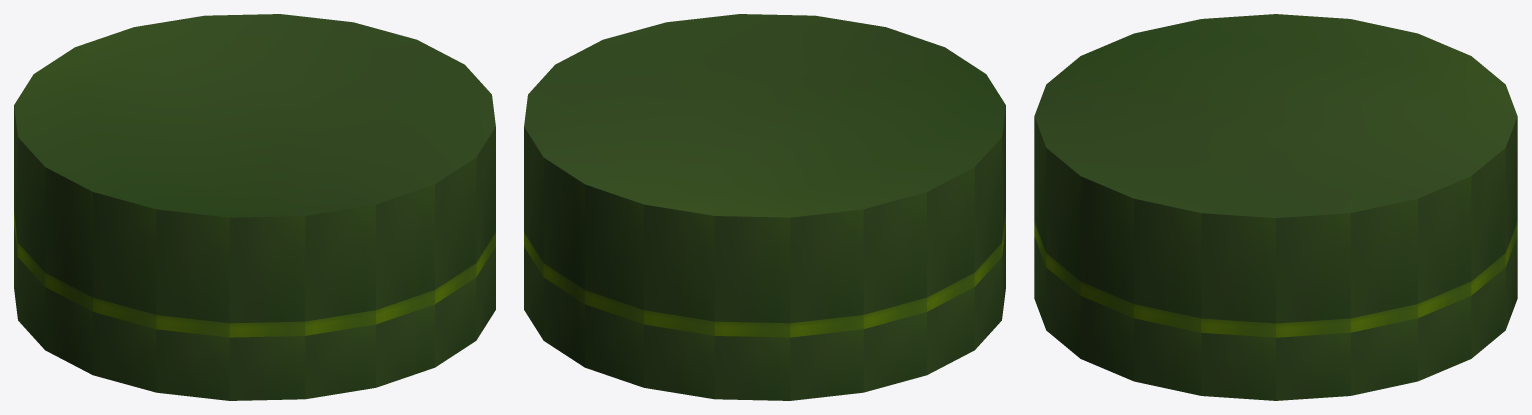
File: PLF0110156.fbx
3 views of the same model, side by side, from view 1: azimuth 30°, elevation 25°; view 2: azimuth 150°, elevation 25°; view 3: azimuth 270°, elevation 25° (orthographic).
Visible parts, largest first — view 1: smPLF0110156; view 2: smPLF0110156; view 3: smPLF0110156.
Boxes of the visible parts, box(x1,y1,x2,y2) form: smPLF0110156: box(14, 14, 495, 400); smPLF0110156: box(524, 14, 1005, 400); smPLF0110156: box(1034, 14, 1517, 400).
Size of the model in its own units: 227 by 94.65 by 227.
